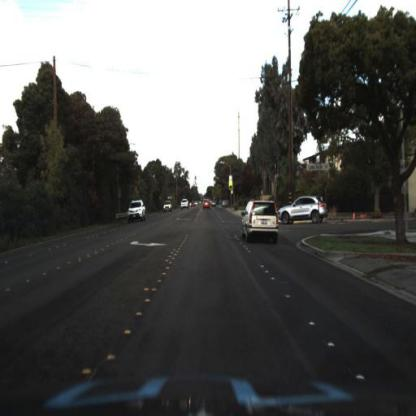car: (242, 197, 281, 245), (277, 195, 329, 230), (127, 201, 149, 222), (162, 200, 176, 216), (202, 199, 214, 213), (179, 198, 190, 210)
